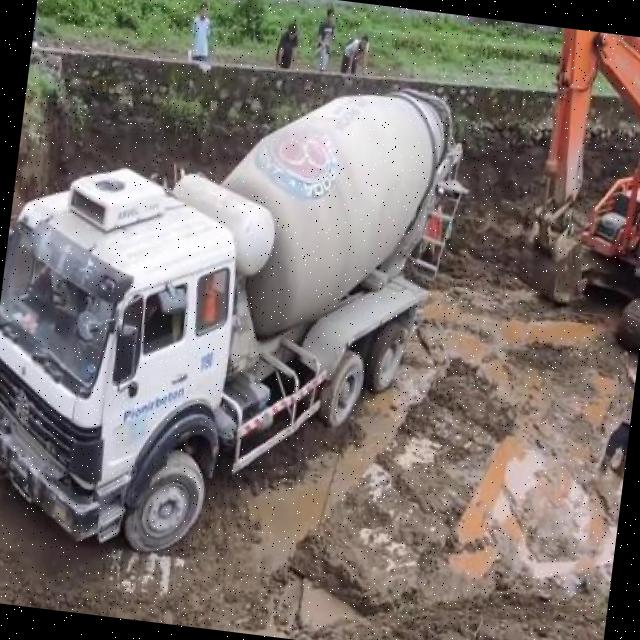Excavator: (510, 26, 640, 349)
